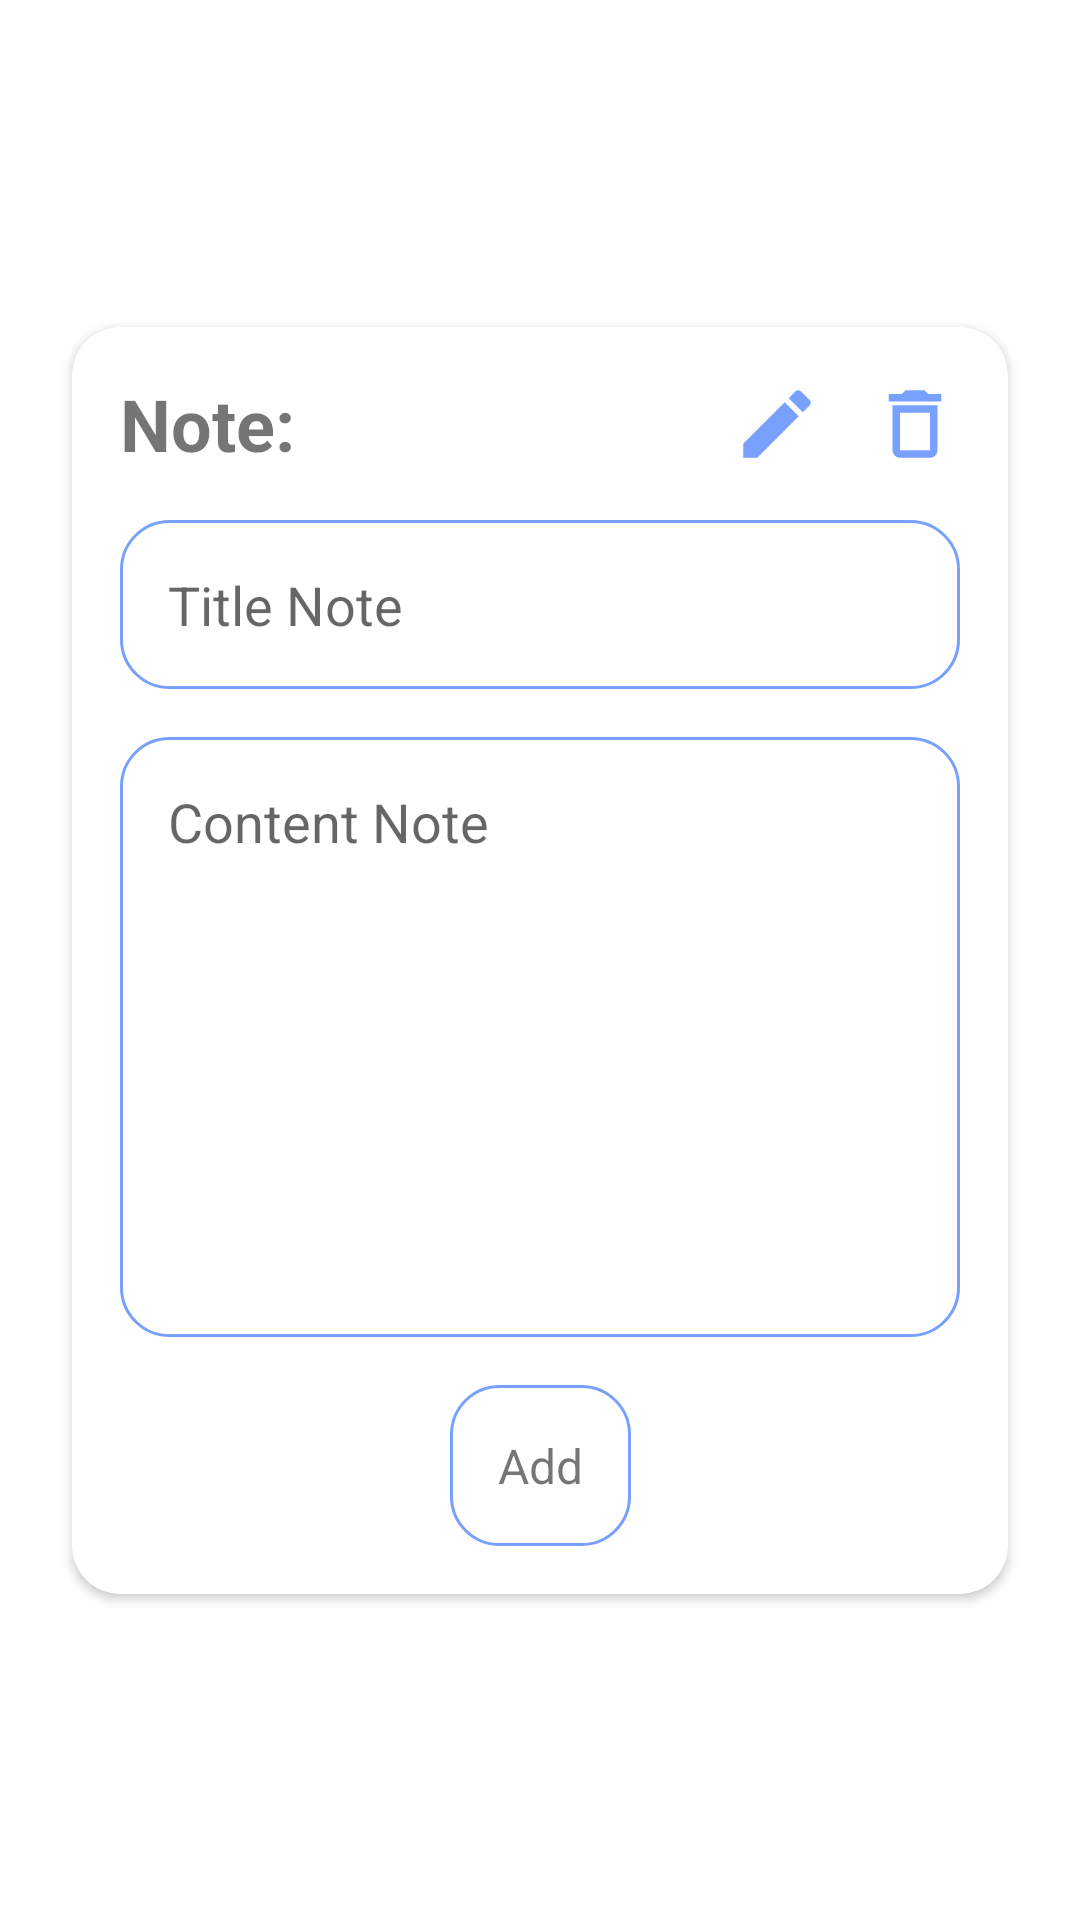

Icons on this 1080*1920 Android screen, each with its box as (left=x1, top=y1, right=x2, bottom=y2):
delete: (left=888, top=390, right=942, bottom=458)
edit: (left=743, top=390, right=811, bottom=458)
